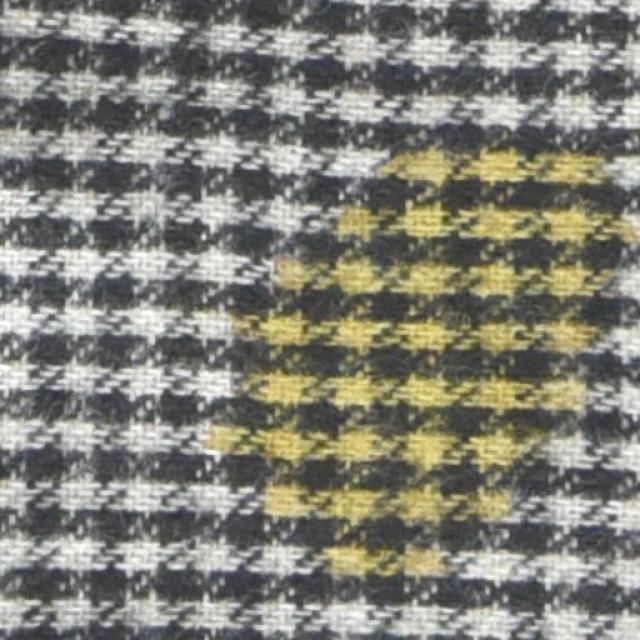Stain: (210, 144, 620, 590)
